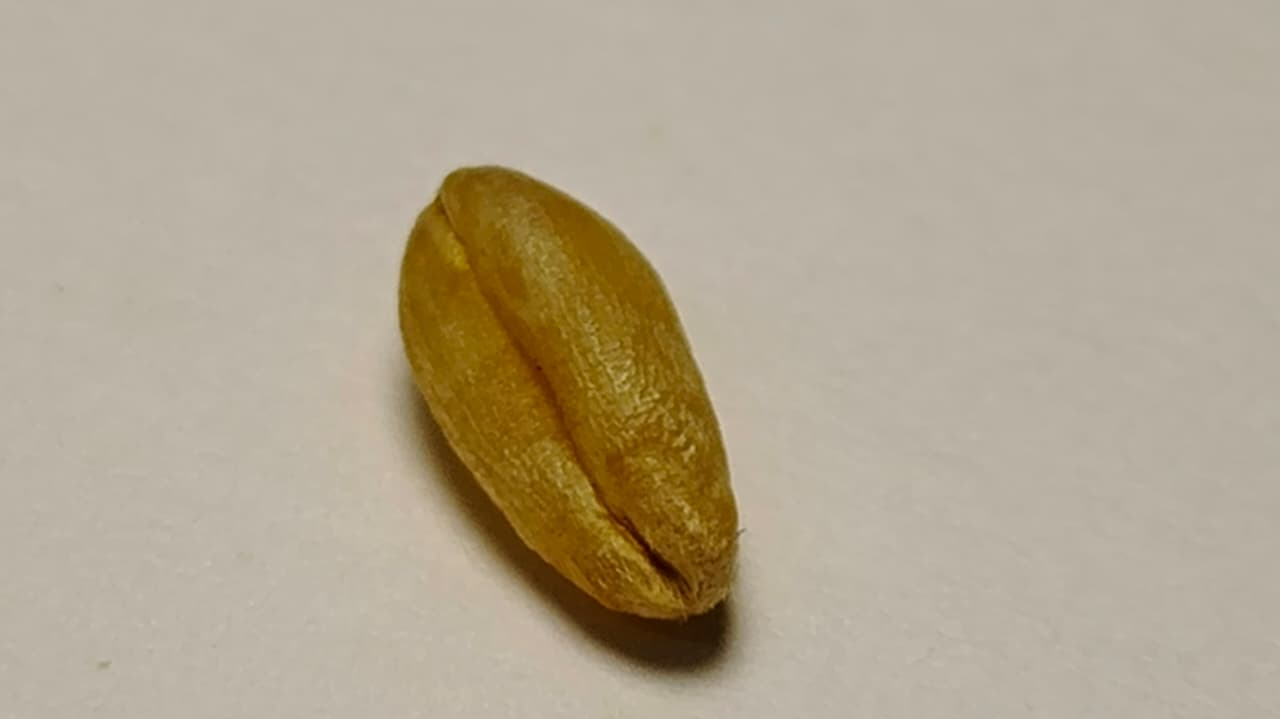healthy: (400, 169, 736, 616)
